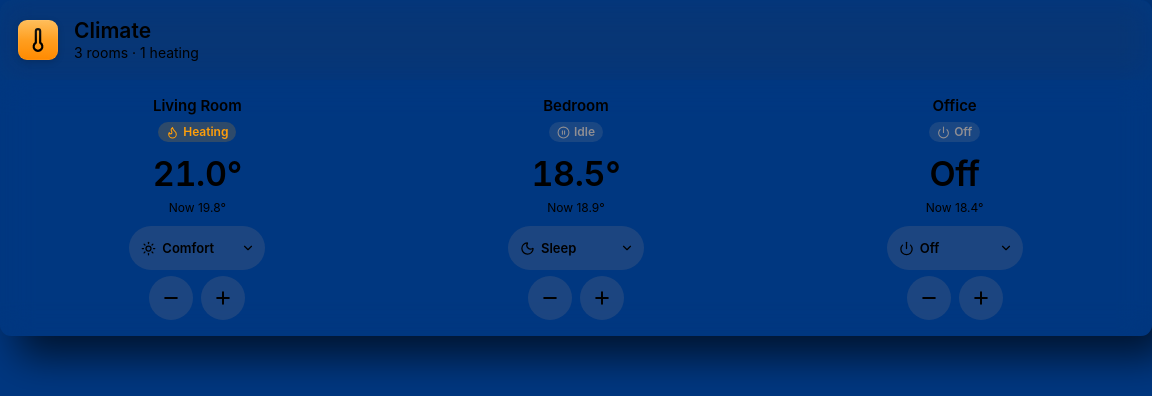
Scenario: Multiroom thermostat card › shows columns with a preset menu when two wide
Check: the text "Living Room" is shown, box [153,96,242,116]
Check: the number of elements with class "mt-col" is 3, box [129,96,265,320]; [508,96,644,320]; [887,96,1023,320]
Click the button with aria-label "Bedroom preset: Sleep" at (576, 248), box [508,226,644,270]
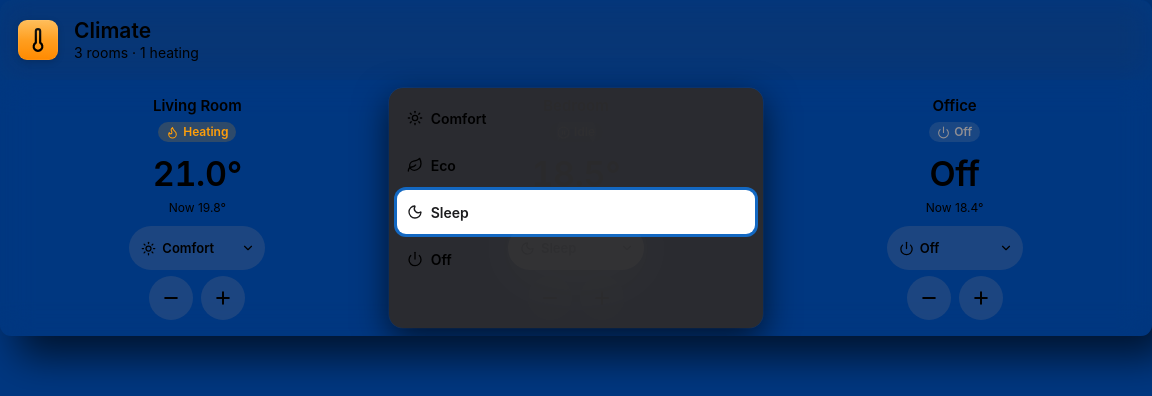
Click the menu item "Eco" at (415, 165), box [397,143,755,187]
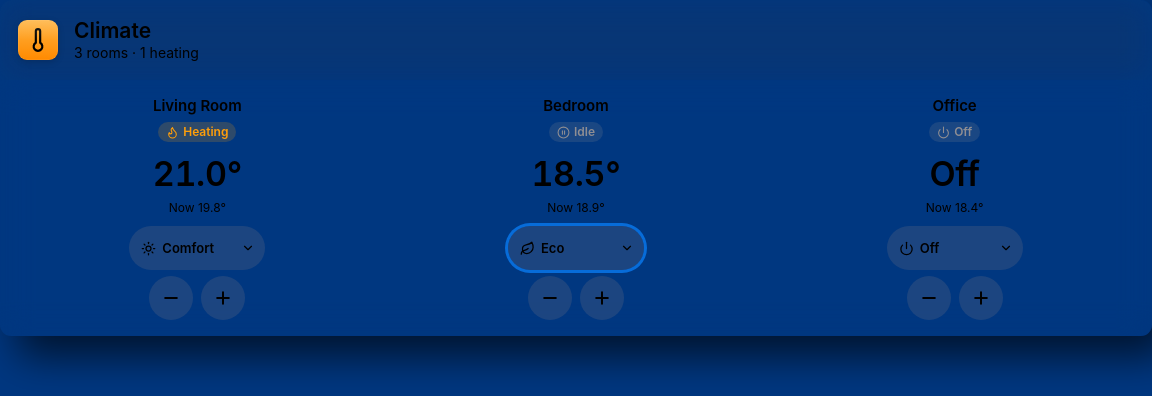
Check: the menu is gone
